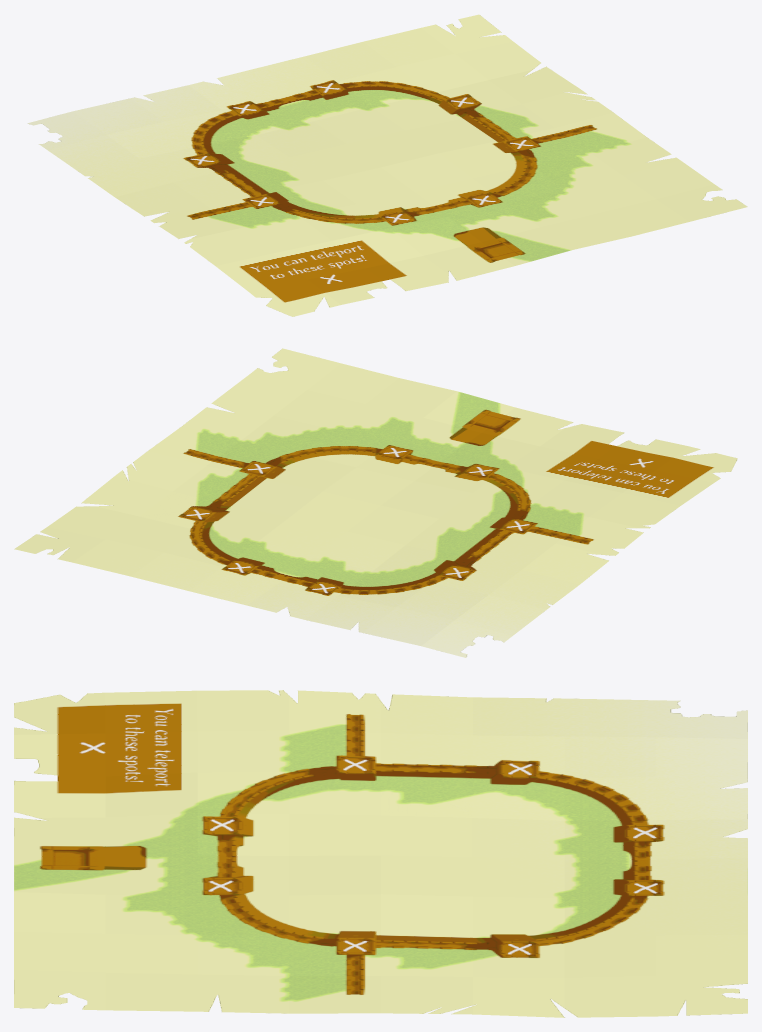
File: Map.fbx
3 renders of one model, top to bottom at view 1: azimuth 30°, elevation 25°; view 2: azimuth 150°, elevation 25°; view 3: azimuth 270°, elevation 25°, orthographic. The views are drawn at different scales.
Parts seen in each view (by area): view 1: Plane; view 2: Plane; view 3: Plane.
Boxes of the visible parts, left/top/right/bottom form: Plane: left=27, top=14, right=747, bottom=316; Plane: left=14, top=348, right=737, bottom=657; Plane: left=14, top=690, right=747, bottom=1017.
Size of the model in its own units: 200 by 5.28 by 200.
